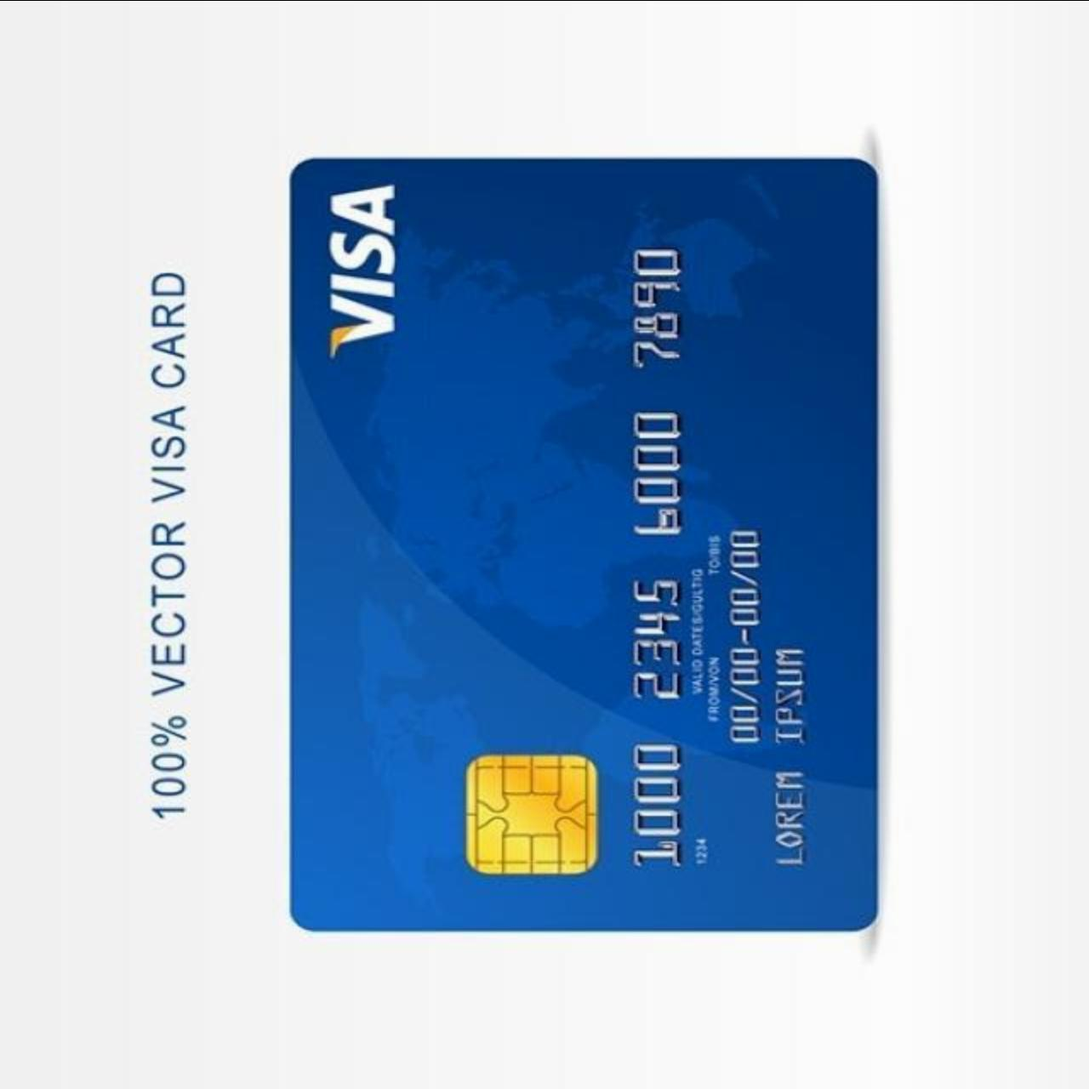credit_card: (296, 153, 875, 929)
